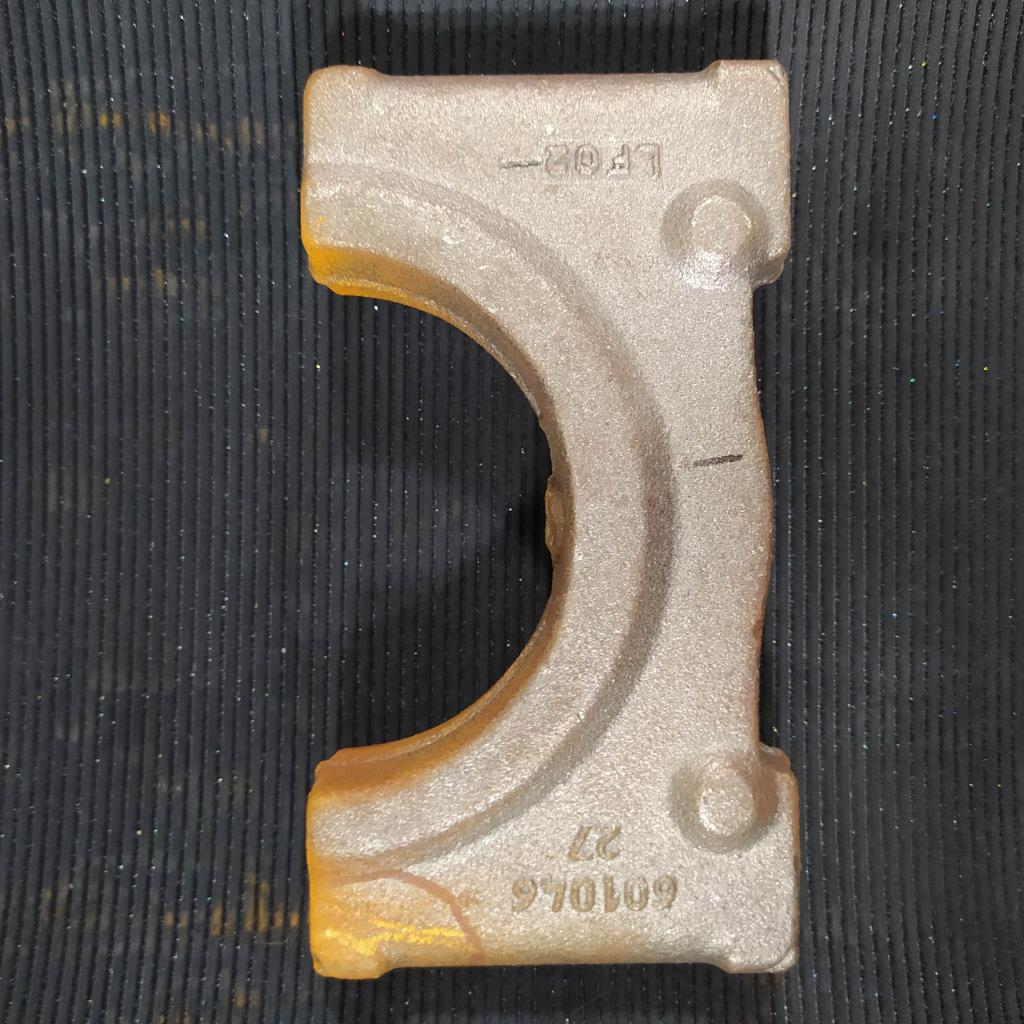rechupe: (768, 947, 799, 975), (768, 64, 789, 91), (313, 954, 326, 974)
